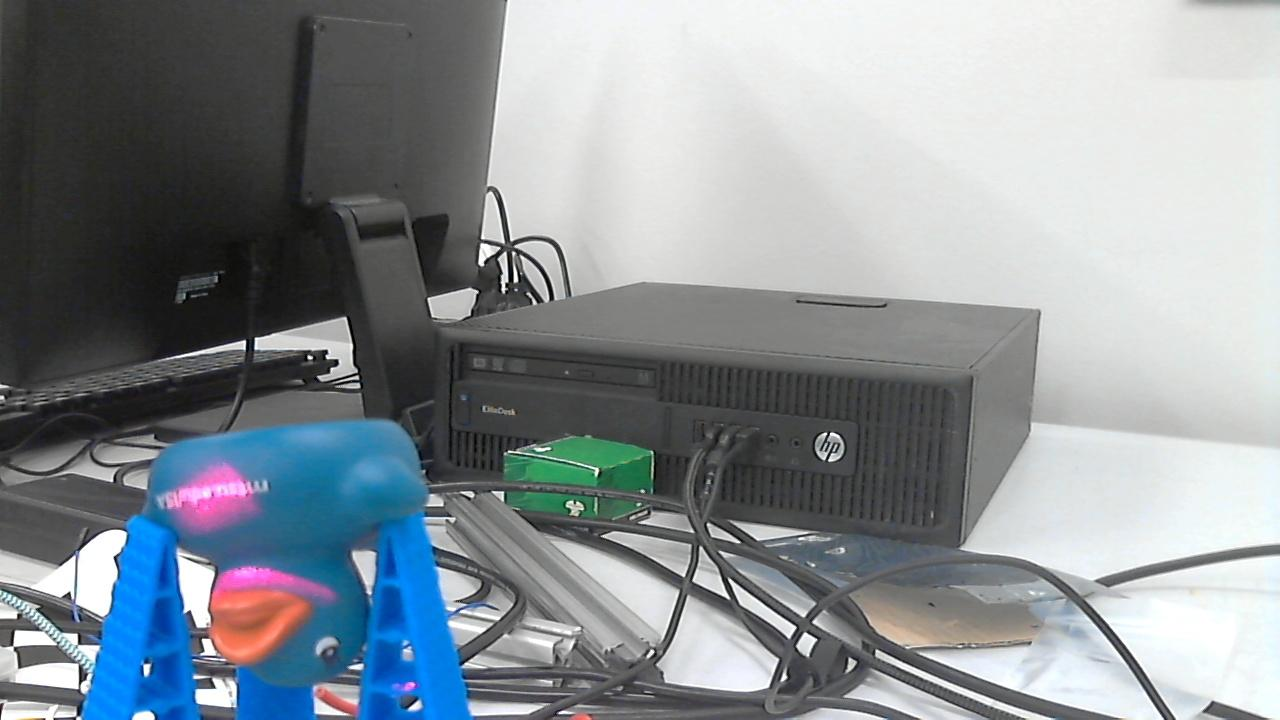Object rubber duck - Material rubber -Color blue - Pdfname BWuUnwTLudUE: (180, 443, 343, 612)
